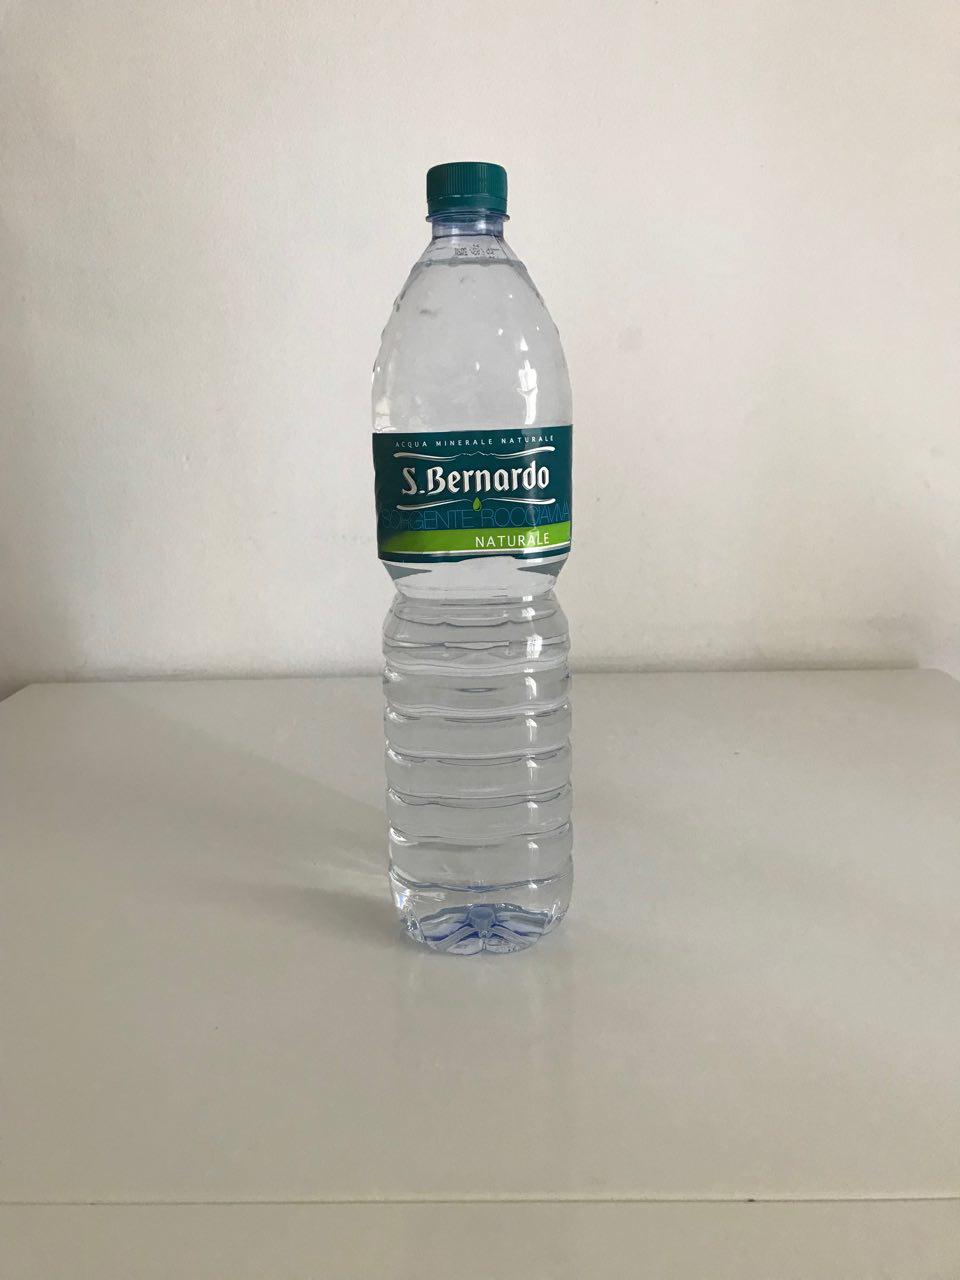san_bernardo: (369, 160, 577, 959)
